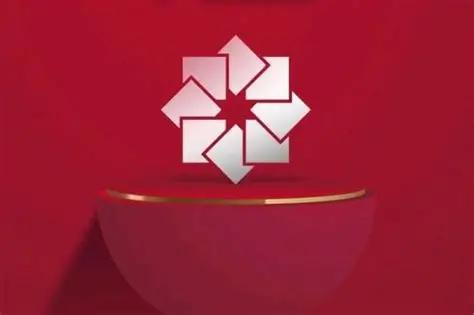Pasha Bank: (157, 33, 313, 185)
